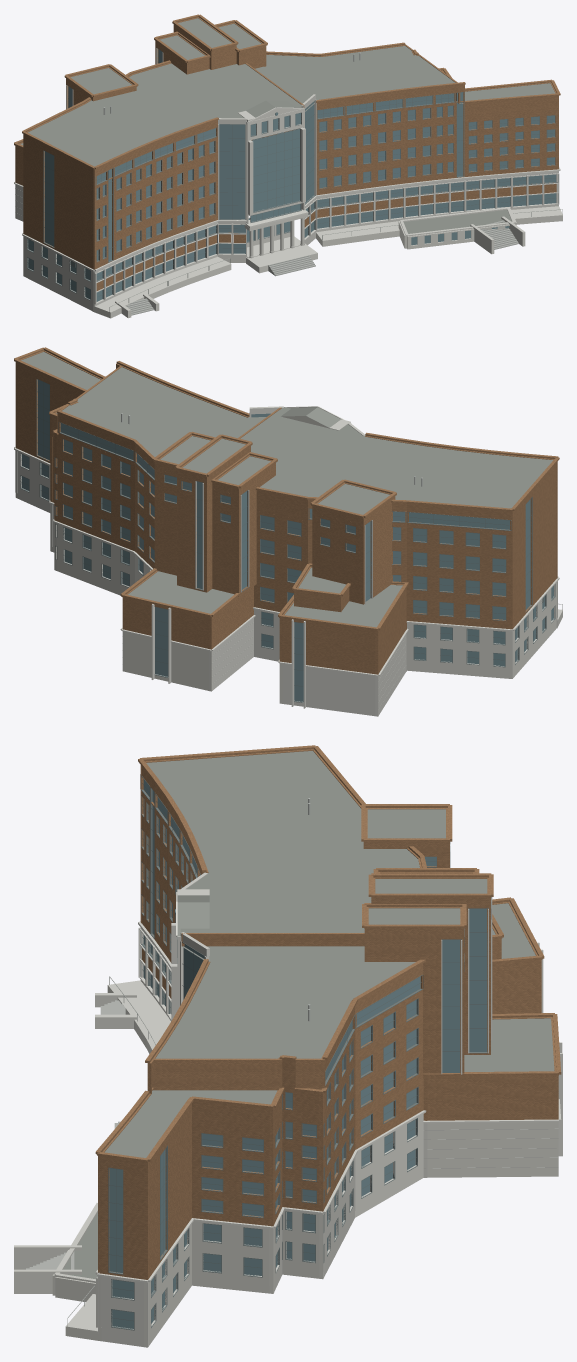
The picture shows the model from 3 angles, top to bottom: view 1: azimuth 30°, elevation 25°; view 2: azimuth 150°, elevation 25°; view 3: azimuth 270°, elevation 25°; orthographic projection. The views are drawn at different scales.
Parts seen in each view (by area): view 1: millennium__salmon, millennium__glass, millennium__roof, millennium__stone, millennium__frame, millennium__cream, millennium__rough, millennium__light; view 2: millennium__salmon, millennium__roof, millennium__stone, millennium__glass, millennium__frame, millennium__cream; view 3: millennium__salmon, millennium__roof, millennium__stone, millennium__glass, millennium__frame, millennium__cream, millennium__rough.
Boxes of the visible parts, left/top/right/bottom form: millennium__salmon: left=14, top=14, right=560, bottom=290; millennium__glass: left=28, top=49, right=556, bottom=301; millennium__roof: left=20, top=18, right=555, bottom=233; millennium__stone: left=15, top=94, right=562, bottom=318; millennium__frame: left=27, top=48, right=558, bottom=300; millennium__cream: left=14, top=48, right=560, bottom=303; millennium__rough: left=15, top=188, right=518, bottom=315; millennium__light: left=103, top=52, right=562, bottom=311; millennium__salmon: left=14, top=347, right=559, bottom=674; millennium__roof: left=21, top=352, right=553, bottom=627; millennium__stone: left=15, top=406, right=562, bottom=716; millennium__glass: left=22, top=380, right=553, bottom=701; millennium__frame: left=20, top=378, right=555, bottom=702; millennium__cream: left=14, top=406, right=559, bottom=708; millennium__salmon: left=95, top=745, right=561, bottom=1279; millennium__roof: left=63, top=751, right=554, bottom=1279; millennium__stone: left=14, top=872, right=558, bottom=1347; millennium__glass: left=109, top=779, right=487, bottom=1328; millennium__frame: left=108, top=774, right=491, bottom=1330; millennium__cream: left=95, top=892, right=562, bottom=1282; millennium__rough: left=26, top=1000, right=558, bottom=1269.
Bounding box in the file's own units: 92.14 × 30.26 × 57.37.
Materials: 8 (1 with a texture image).
